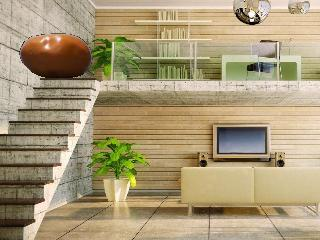potato: (18, 34, 91, 80)
